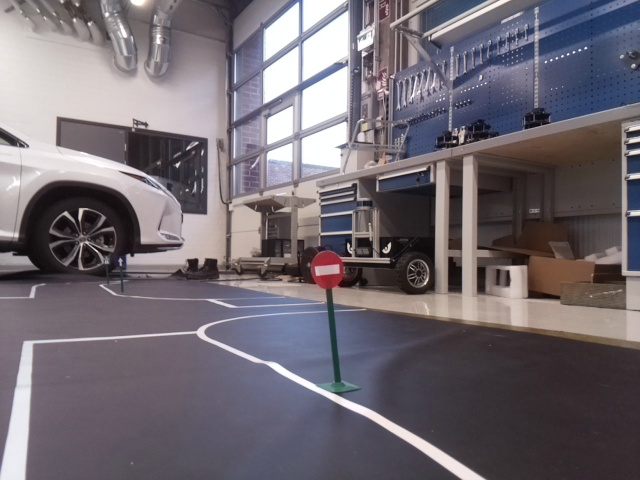NoEntry: (309, 251, 345, 290)
